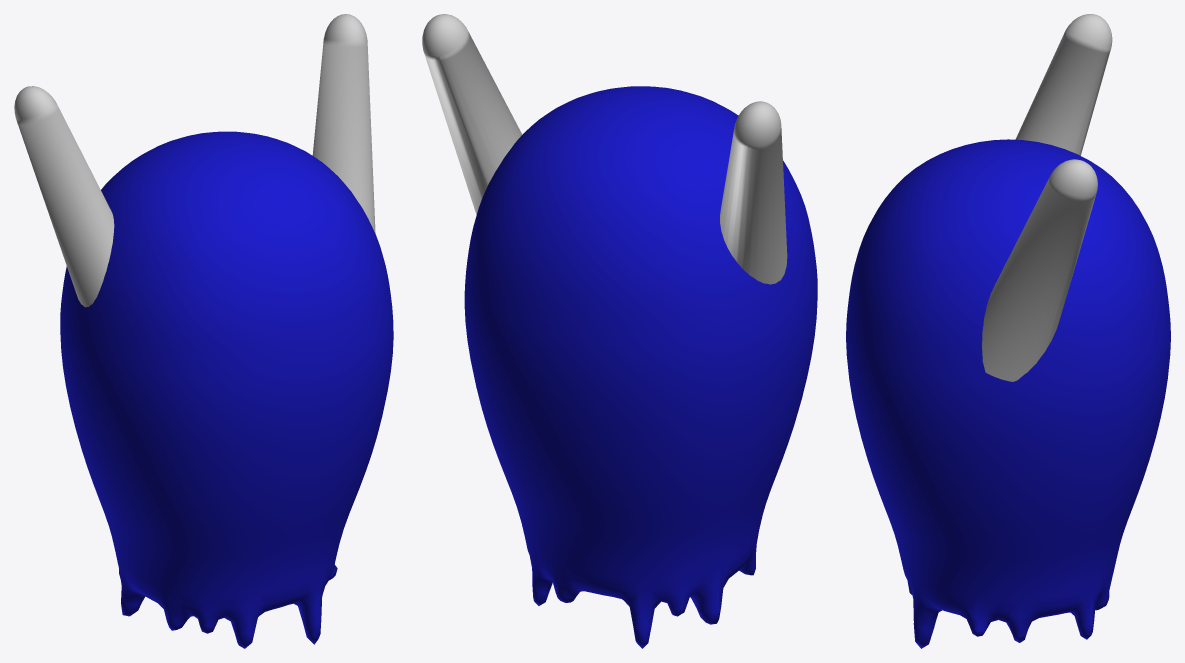
File: beforeThrow_000040.obj
3 views of the same model, side by side, from view 1: azimuth 30°, elevation 25°; view 2: azimuth 150°, elevation 25°; view 3: azimuth 270°, elevation 25° (orthographic). The views are drawn at different scales.
Parts seen in each view (by area): view 1: Cube, Sphere.001, Sphere; view 2: Cube, Sphere.001, Sphere; view 3: Cube, Sphere, Sphere.001.
Boxes of the visible parts, x1,y1,x2,y2 form: Cube: [60, 131, 393, 648]; Sphere.001: [14, 86, 114, 307]; Sphere: [312, 14, 375, 233]; Cube: [464, 86, 817, 648]; Sphere.001: [720, 101, 787, 284]; Sphere: [422, 14, 522, 214]; Cube: [846, 139, 1170, 648]; Sphere: [982, 159, 1097, 381]; Sphere.001: [1015, 14, 1112, 155].
Bounding box in the file's own units: 0.3413 × 0.5256 × 0.2859.
